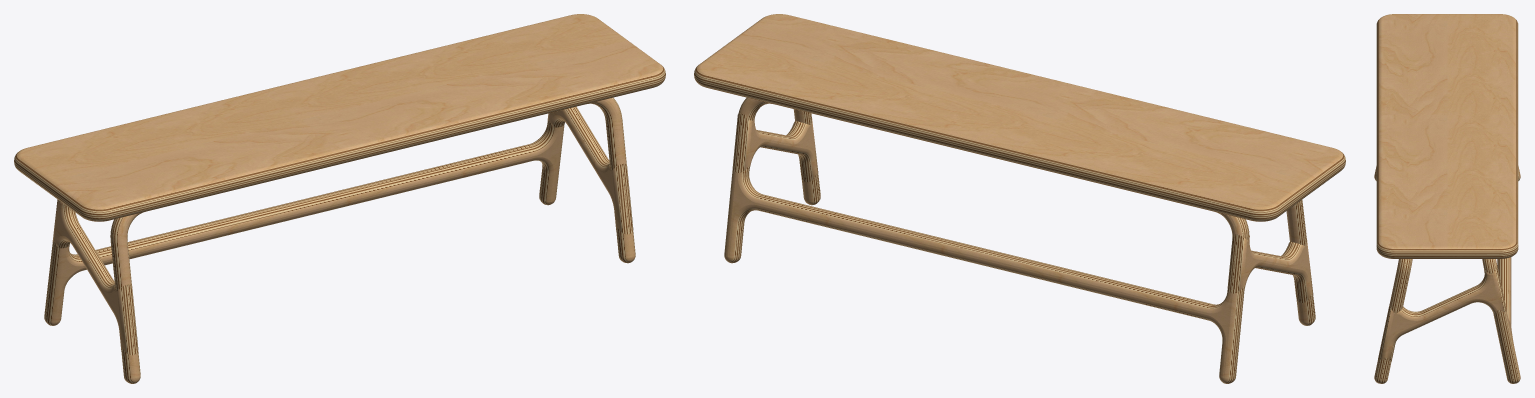
Rendered from bench.glb.
3 renders of one model, left to right at view 1: azimuth 30°, elevation 25°; view 2: azimuth 150°, elevation 25°; view 3: azimuth 270°, elevation 25°, orthographic. The views are drawn at different scales.
Visible parts, largest first — view 1: Bench: top_upper, Bench: back_frame, Bench: front_frame, Bench: end_frame_L, Bench: top_lower, Bench: end_frame_R; view 2: Bench: top_upper, Bench: back_frame, Bench: top_lower, Bench: end_frame_L, Bench: end_frame_R, Bench: front_frame; view 3: Bench: top_upper, Bench: end_frame_R, Bench: back_frame, Bench: front_frame, Bench: top_lower.
Boxes of the visible parts, <box> form: Bench: top_upper: <box>14,14,665,216</box>; Bench: back_frame: <box>44,120,564,325</box>; Bench: front_frame: <box>110,97,635,383</box>; Bench: end_frame_L: <box>52,199,138,355</box>; Bench: top_lower: <box>14,75,665,221</box>; Bench: end_frame_R: <box>547,106,633,234</box>; Bench: top_upper: <box>694,14,1345,216</box>; Bench: back_frame: <box>724,97,1249,383</box>; Bench: top_lower: <box>694,75,1345,221</box>; Bench: end_frame_L: <box>1227,234,1313,302</box>; Bench: end_frame_R: <box>732,113,818,182</box>; Bench: front_frame: <box>793,109,1315,325</box>; Bench: top_upper: <box>1376,14,1518,254</box>; Bench: end_frame_R: <box>1378,266,1506,361</box>; Bench: back_frame: <box>1482,166,1520,383</box>; Bench: front_frame: <box>1374,166,1412,383</box>; Bench: top_lower: <box>1376,248,1518,258</box>.
Size of the model in its own units: 1.5 by 0.4505 by 0.3915.
Materials: 2 (2 with a texture image).
